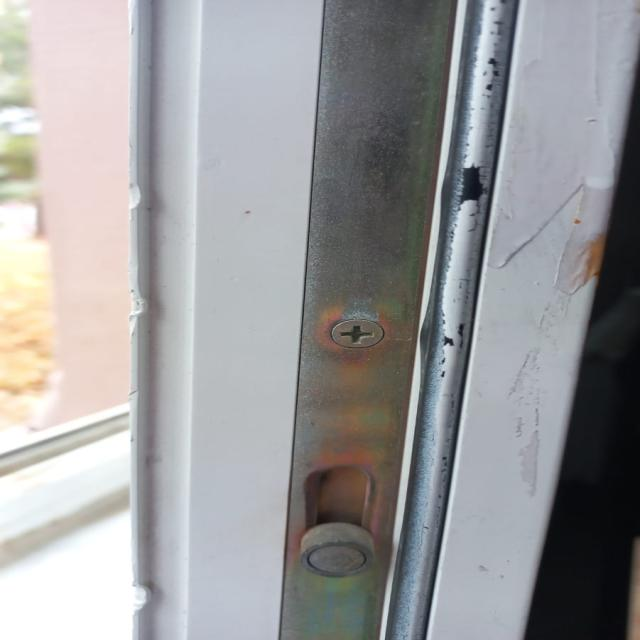Phillips: (326, 316, 386, 349)
